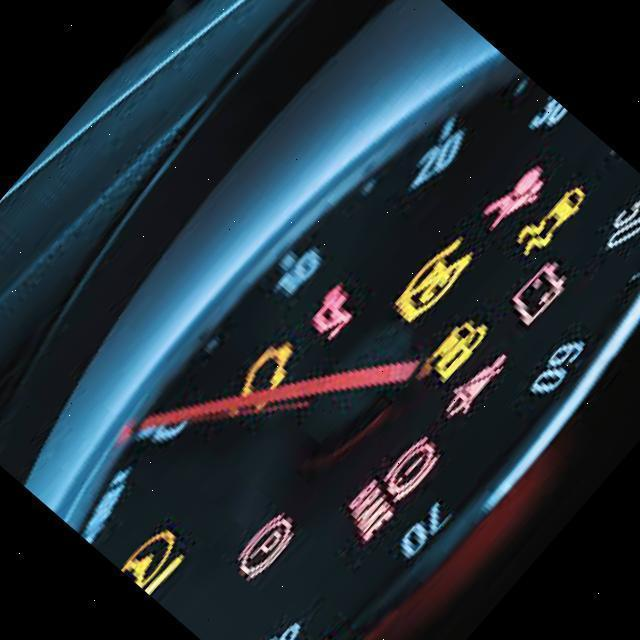Seat Belt: (454, 355, 508, 420)
